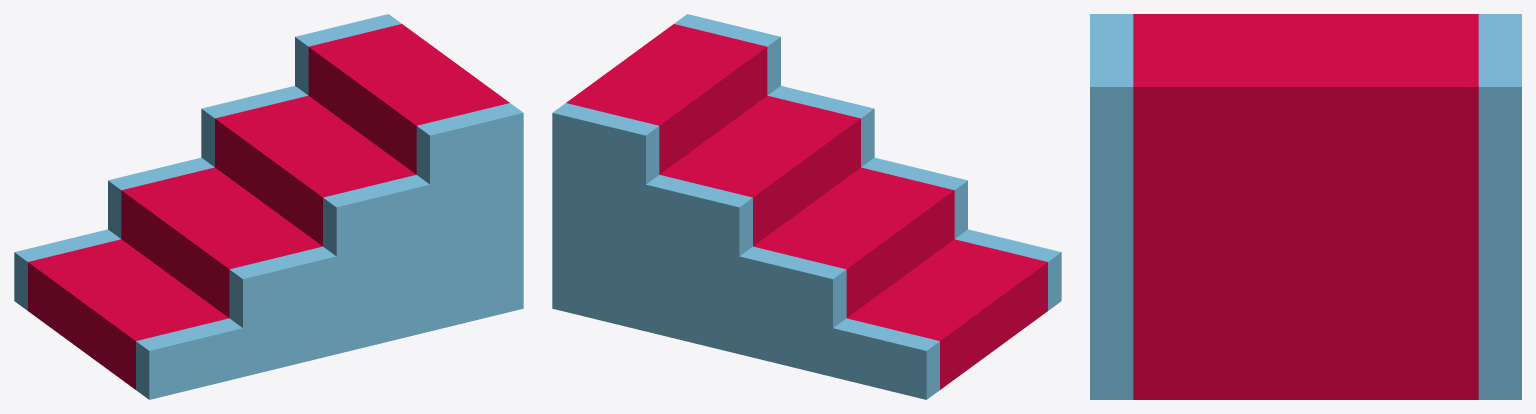
File: 4 Stair.fbx
3 views of the same model, side by side, from view 1: azimuth 30°, elevation 25°; view 2: azimuth 150°, elevation 25°; view 3: azimuth 270°, elevation 25° (orthographic). The views are drawn at different scales.
Parts seen in each view (by area): view 1: 4 Stair; view 2: 4 Stair; view 3: 4 Stair.
Boxes of the visible parts, bbox=[...] form: 4 Stair: bbox=[14, 14, 523, 399]; 4 Stair: bbox=[552, 14, 1061, 399]; 4 Stair: bbox=[1090, 14, 1521, 399].
Size of the model in its own units: 160 by 80 by 100.
